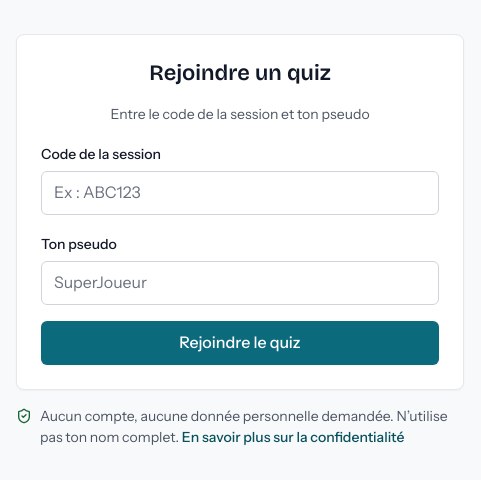
Test: Page « Rejoindre » : erreurs du join › 400 : affiche le motif du refus renvoyé par le serveur
Type "ABC123" into the field labelled "Code de la session" at (240, 193), box top-left (41, 171), bottom-right (439, 215)
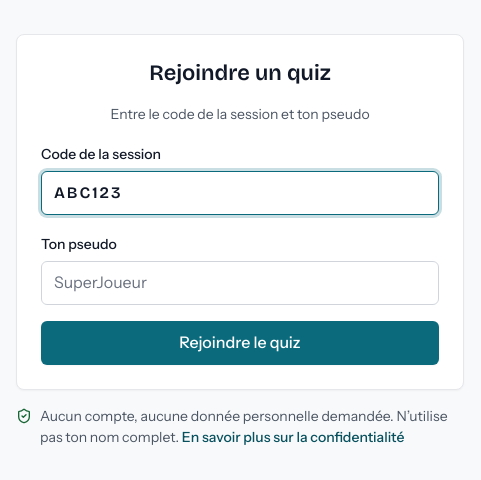
Type "Grossier" into the field labelled "Ton pseudo" at (240, 283), box top-left (41, 261), bottom-right (439, 305)
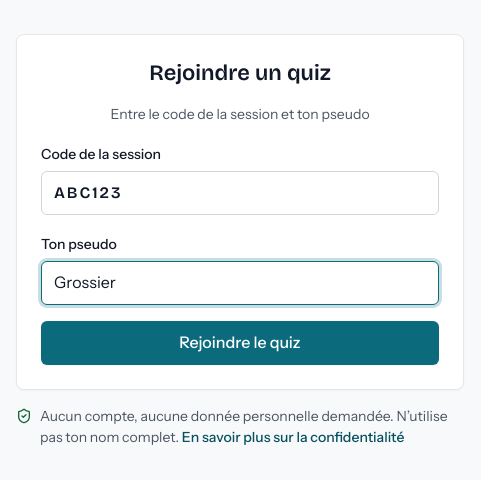
Click the button "Rejoindre le quiz" at (240, 343), box top-left (41, 321), bottom-right (439, 365)
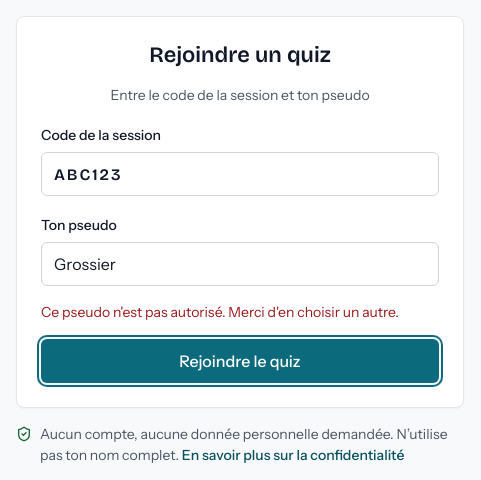
Expected: the message shows "Ce pseudo n'est pas autorisé", top-left (41, 303), bottom-right (399, 321)
